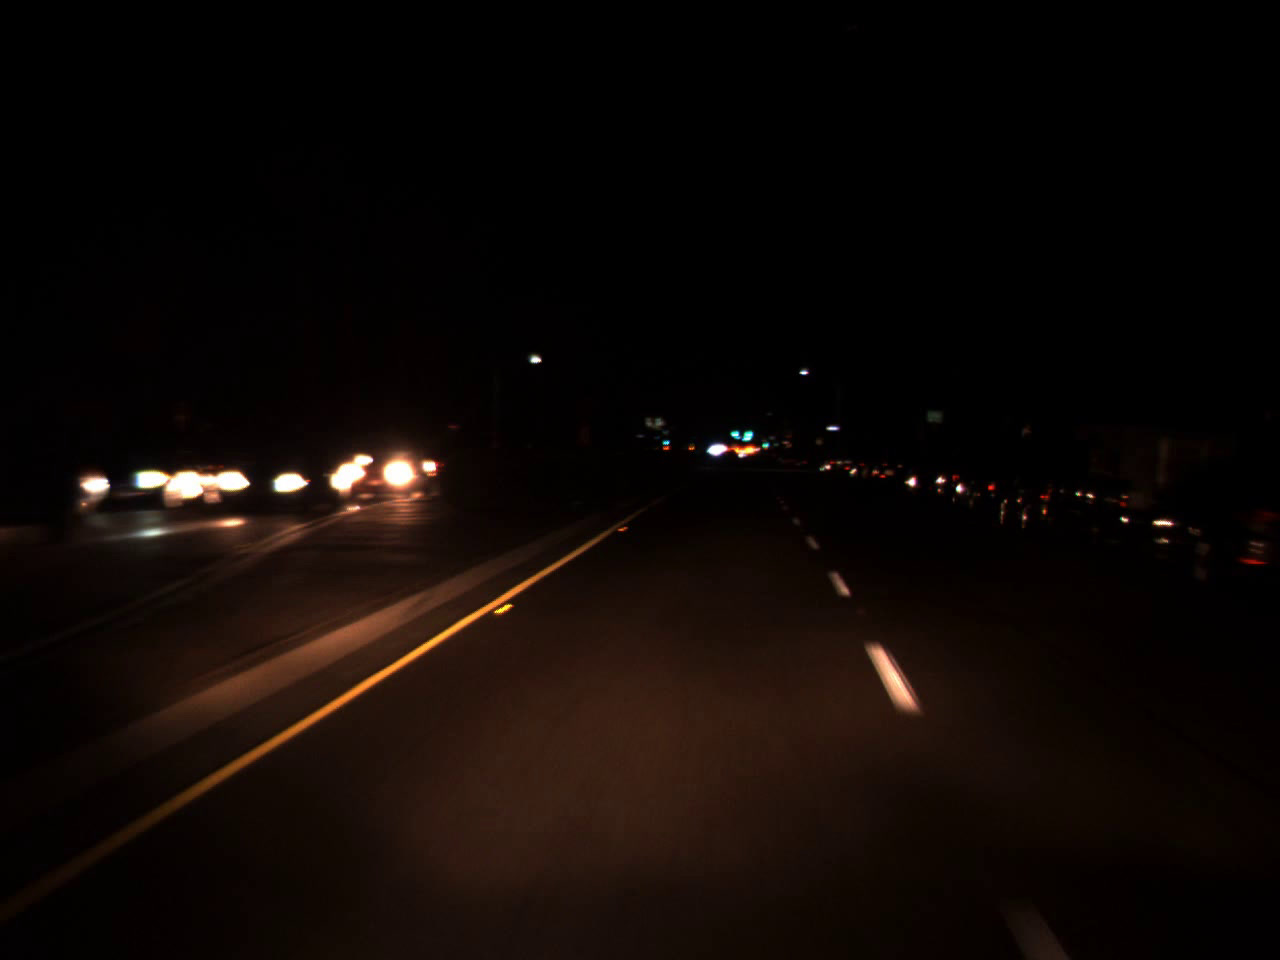go: (736, 417, 755, 441), (726, 418, 740, 439), (660, 430, 670, 448), (759, 433, 769, 451)
